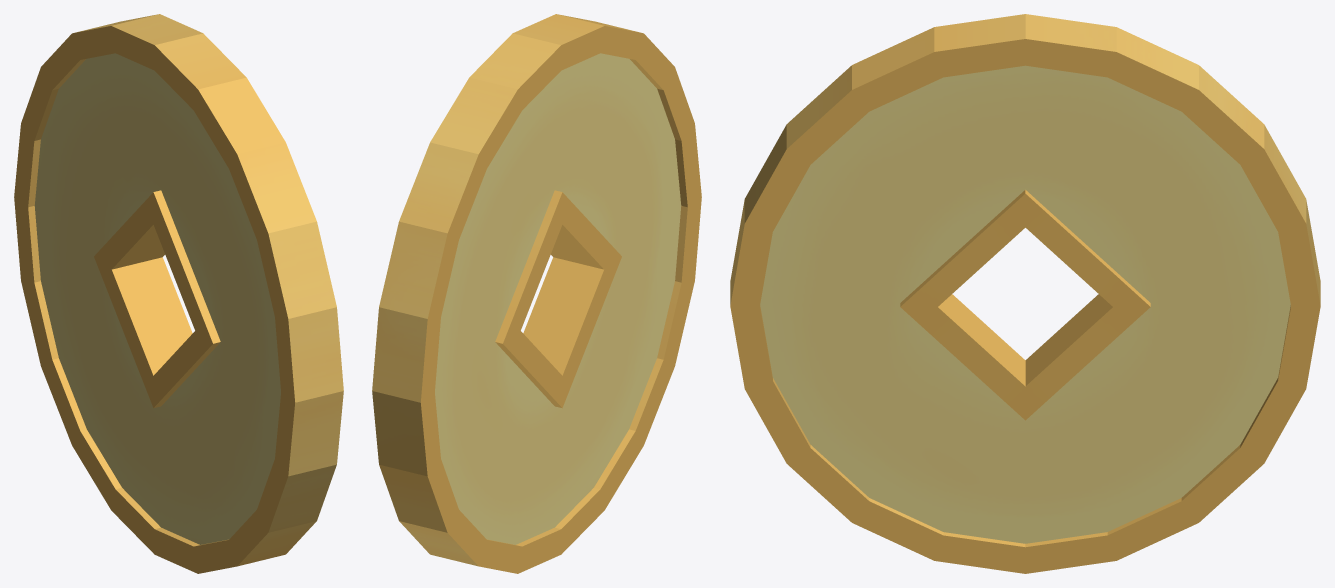
Rendered from coin.fbx.
The picture shows the model from 3 angles, left to right: view 1: azimuth 30°, elevation 25°; view 2: azimuth 150°, elevation 25°; view 3: azimuth 270°, elevation 25°; orthographic projection. The views are drawn at different scales.
Parts seen in each view (by area): view 1: Coin; view 2: Coin; view 3: Coin.
Boxes of the visible parts, left/top/right/bottom form: Coin: left=14, top=14, right=343, bottom=573; Coin: left=372, top=14, right=701, bottom=573; Coin: left=730, top=14, right=1320, bottom=573.
Bounding box in the file's own units: 20.96 × 200 × 200.
